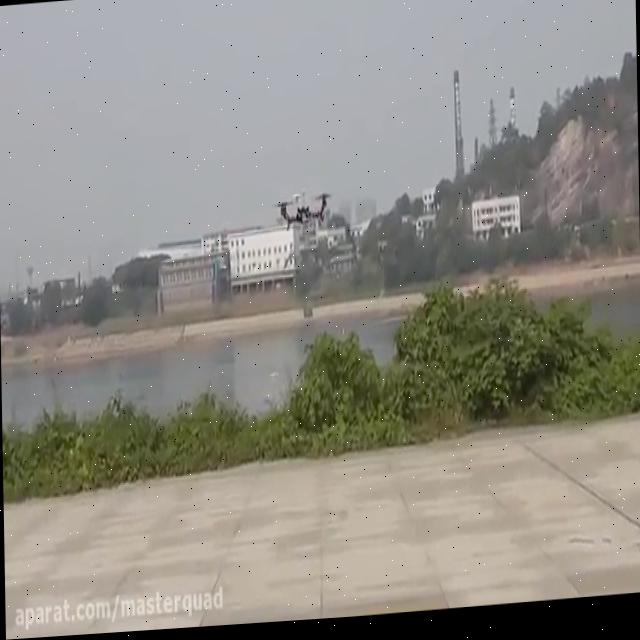drone: (270, 181, 334, 240)
